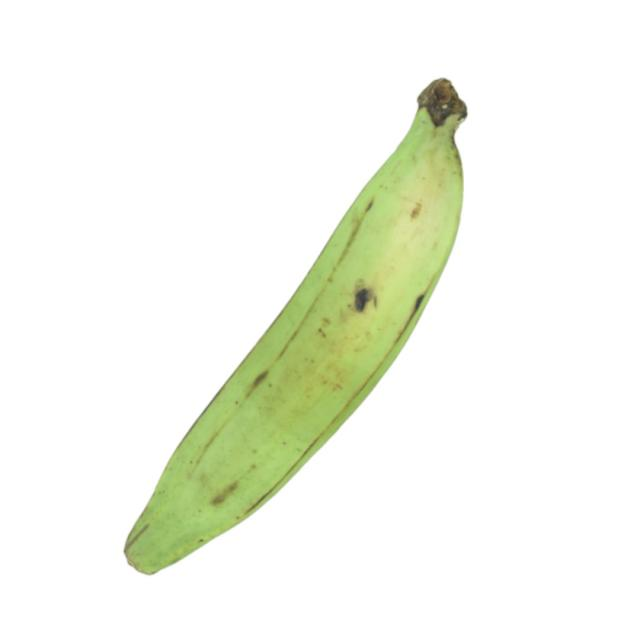Pisang: (125, 77, 466, 574)
